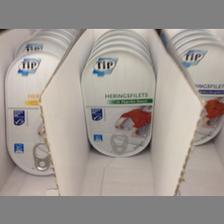Fisch: (80, 47, 156, 157), (3, 51, 59, 177), (180, 40, 224, 148)
